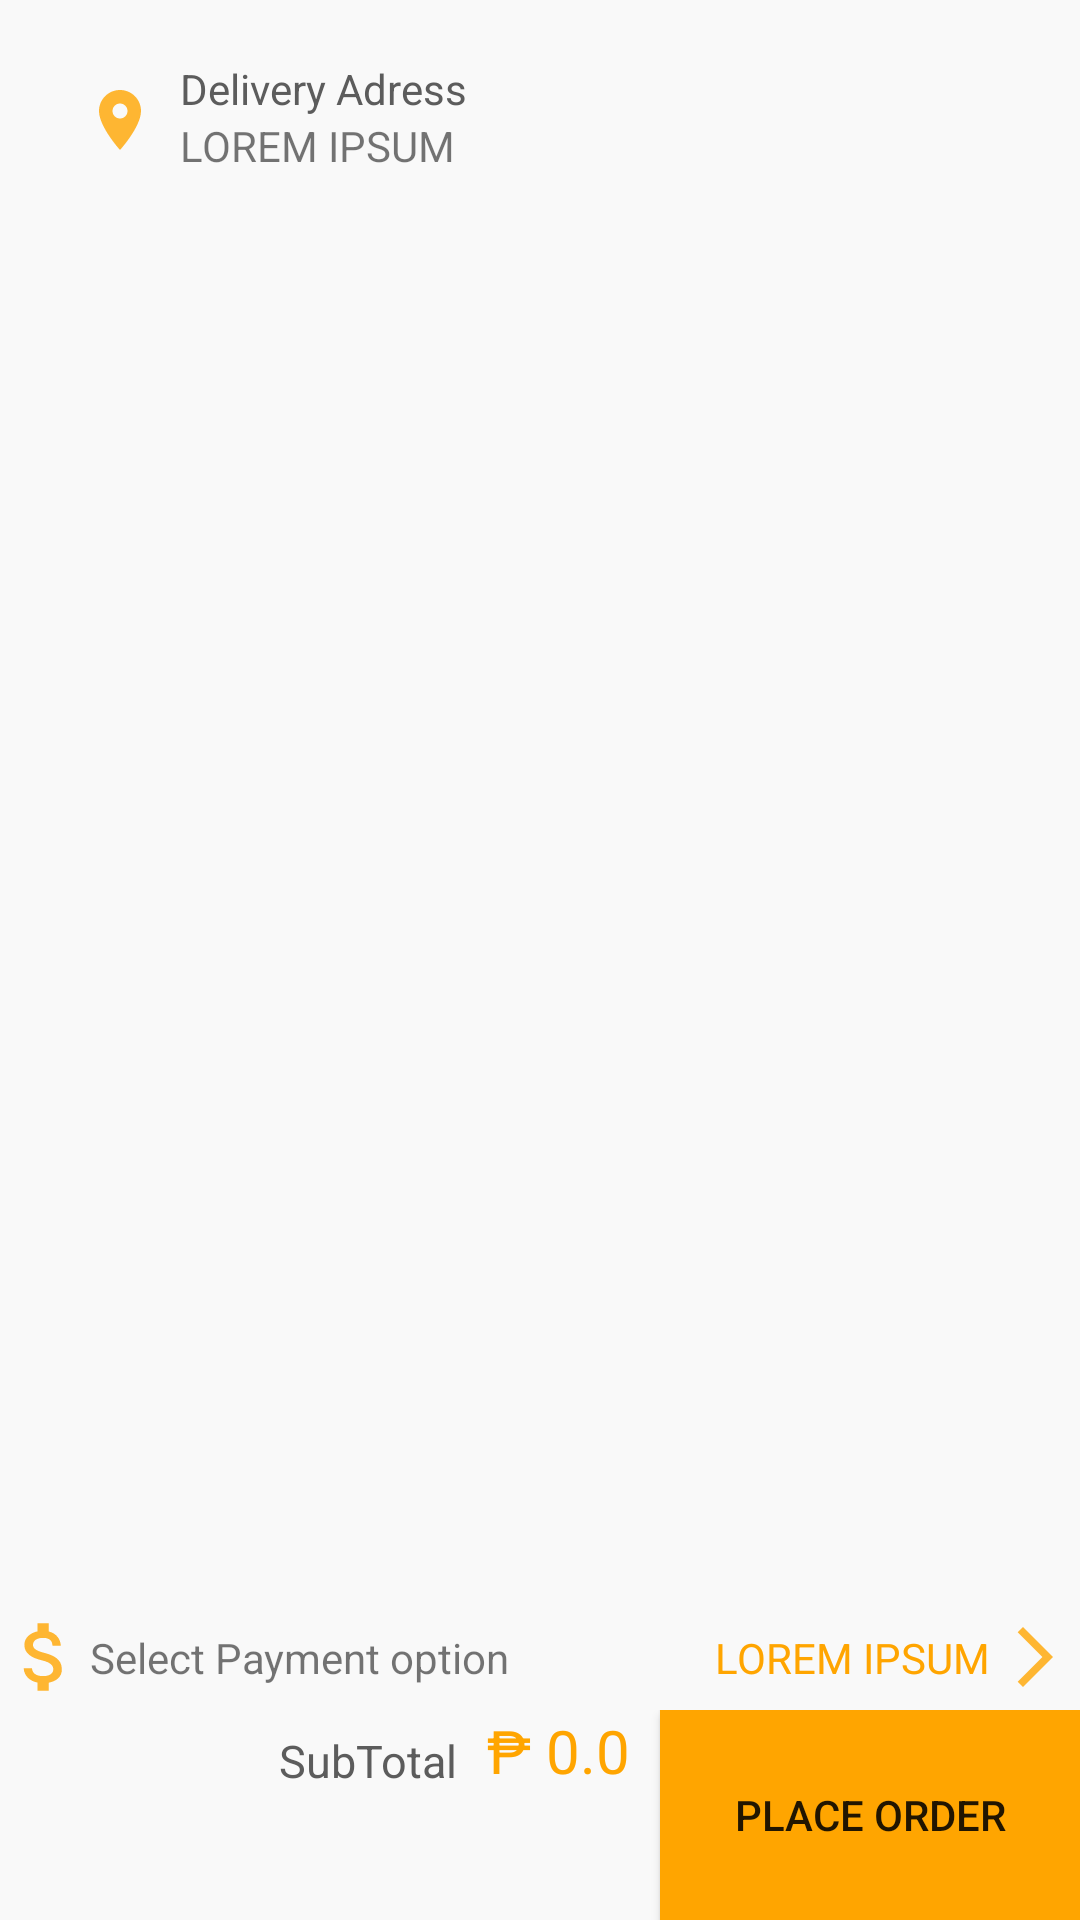

Locate icon controls on the screen. Image size 1080w x 1920h, boxes as box(x1, y1, x2, y2).
arrowcolored: box(1018, 1627, 1053, 1687)
dollar: box(23, 1623, 62, 1691)
